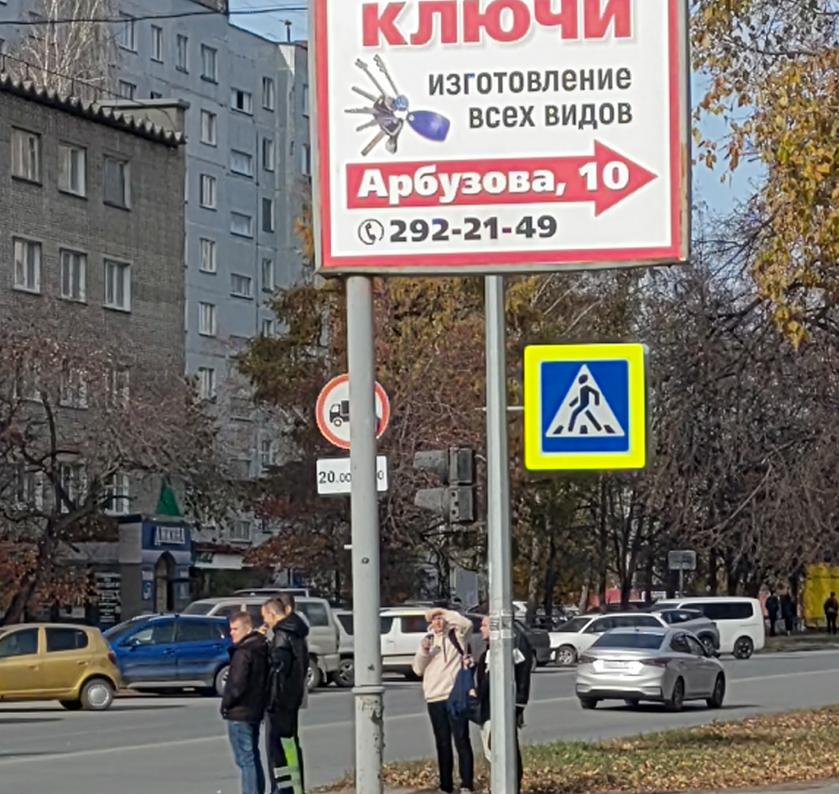obstructed_road_sign: (315, 372, 391, 450)
off traffic light: (413, 448, 475, 523)
road_sign: (524, 345, 645, 470)
